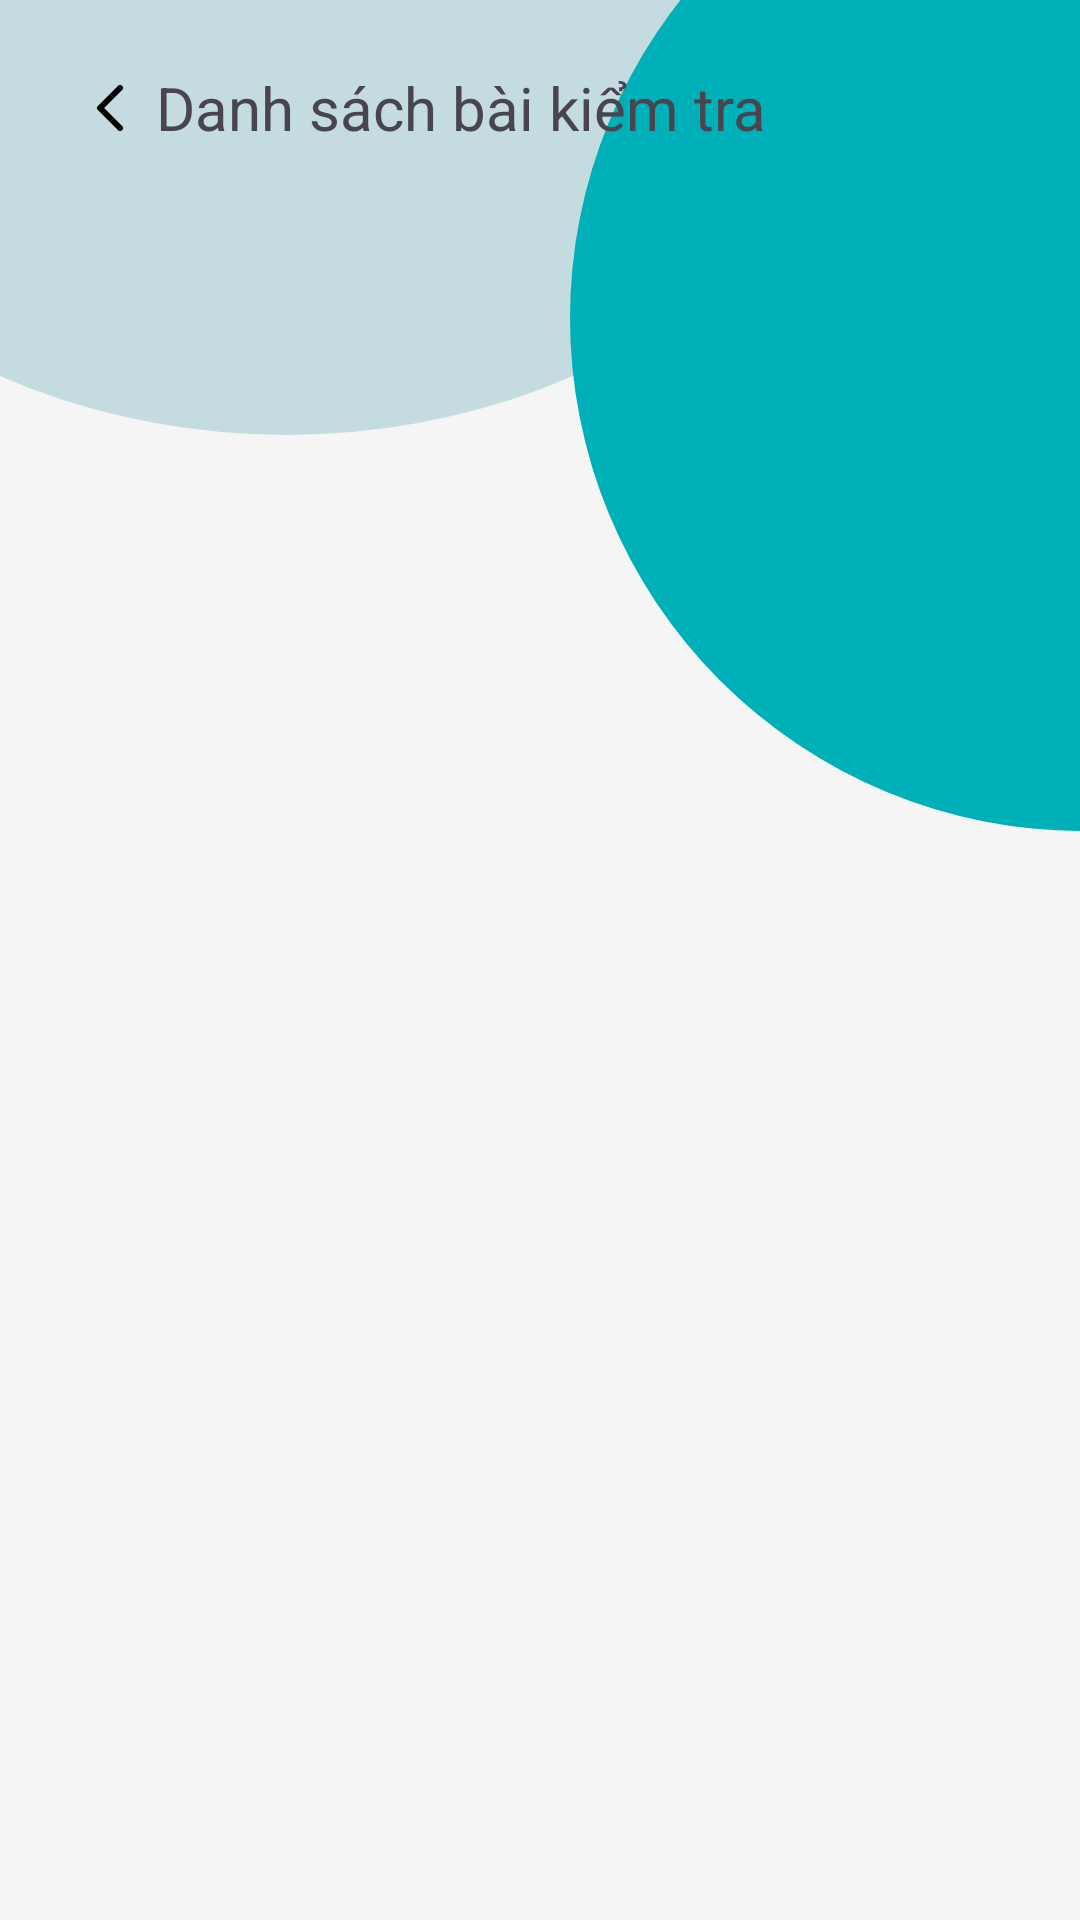

Icons on this 1080px×1920px Android screen, each with the point to tap as (x=x, y=y):
arrow left: (x=110, y=108)
